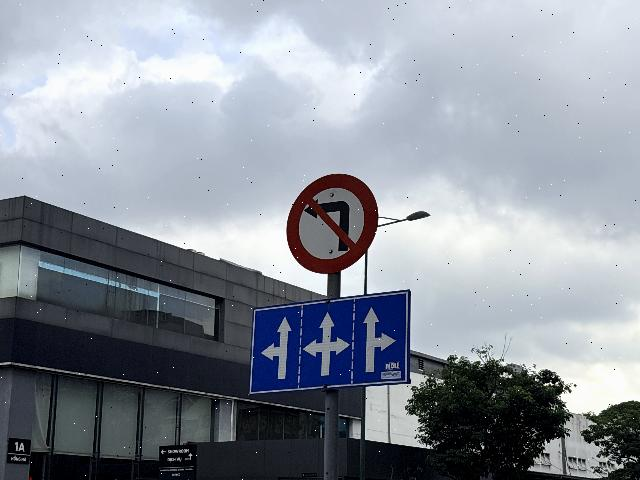cam-re-trai: (286, 172, 379, 274)
